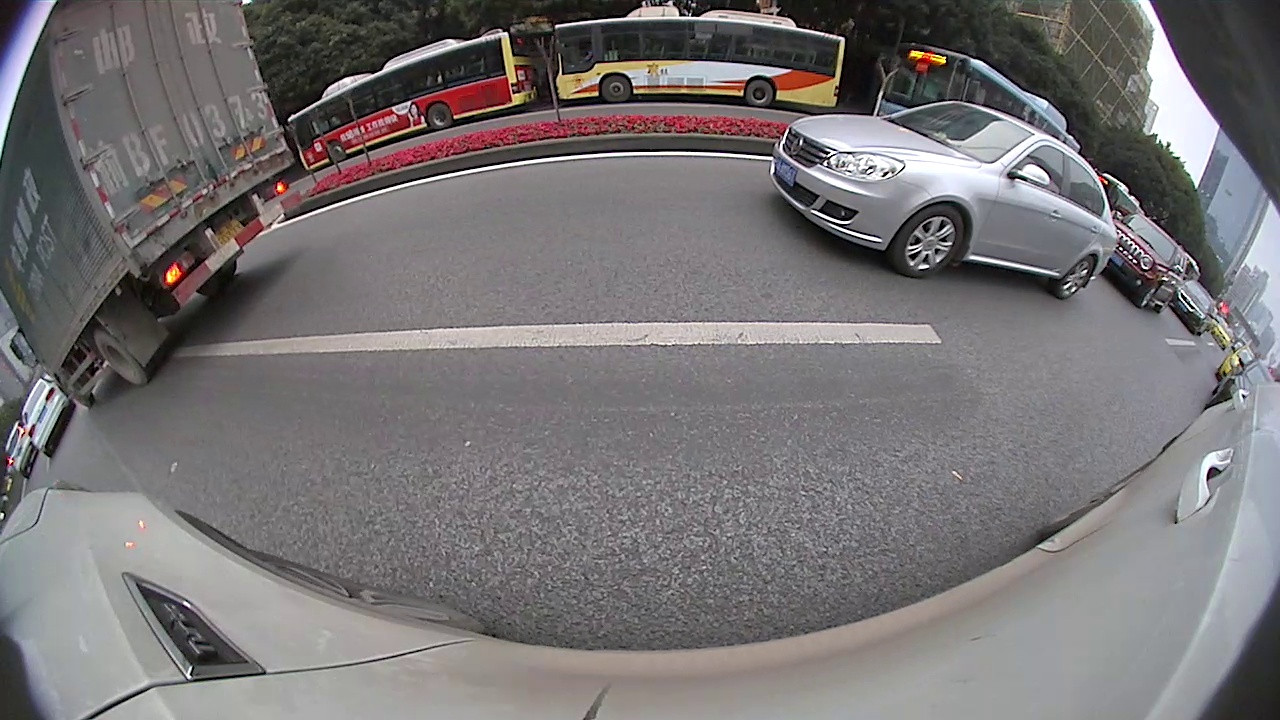bus: (288, 27, 540, 176), (553, 4, 848, 108), (877, 43, 1079, 154), (1097, 174, 1142, 223)
car: (766, 99, 1118, 300), (1111, 214, 1190, 312), (22, 377, 74, 460), (1216, 358, 1277, 407), (1174, 283, 1219, 333)
front: (892, 202, 965, 279), (599, 75, 631, 104), (1139, 283, 1160, 308), (327, 142, 346, 163)
rear: (95, 329, 149, 386), (1057, 254, 1097, 300), (744, 81, 773, 108), (427, 102, 453, 130)
truck: (1, 0, 293, 412)
